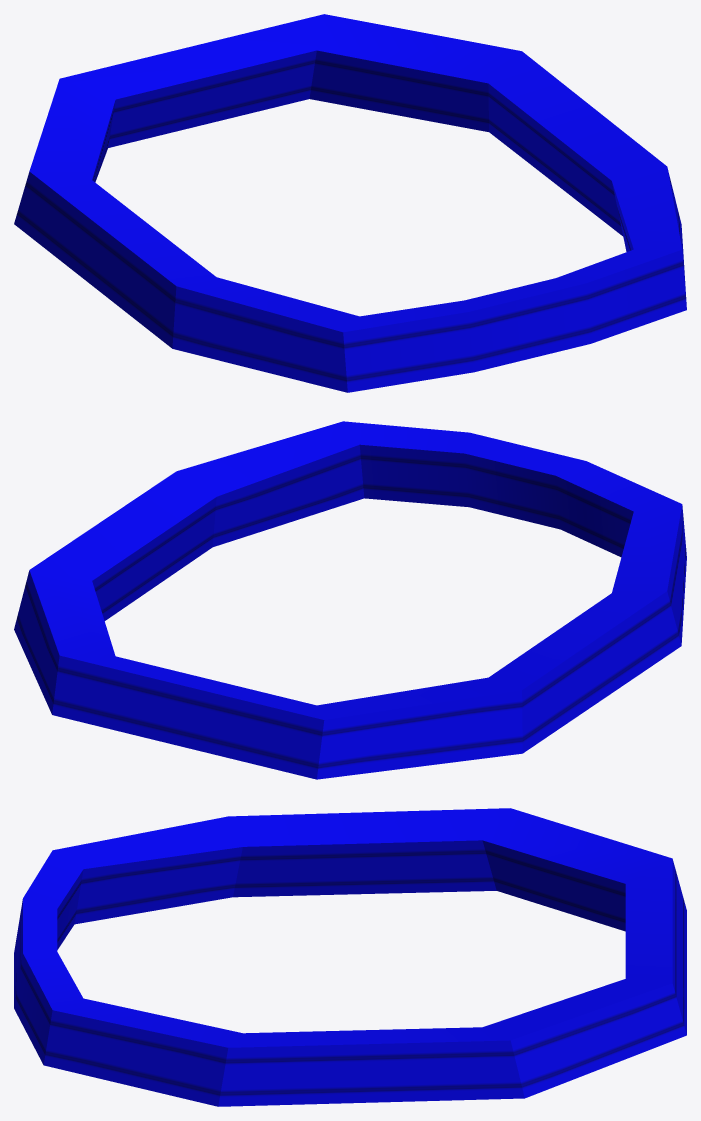
Rendered from CopperCirclet_F.fbx.
3 renders of one model, top to bottom at view 1: azimuth 30°, elevation 25°; view 2: azimuth 150°, elevation 25°; view 3: azimuth 270°, elevation 25°, orthographic. The views are drawn at different scales.
Visible parts, largest first — view 1: CopperCirclet_F; view 2: CopperCirclet_F; view 3: CopperCirclet_F.
Boxes of the visible parts, bbox=[...] form: CopperCirclet_F: bbox=[14, 14, 686, 392]; CopperCirclet_F: bbox=[14, 421, 686, 779]; CopperCirclet_F: bbox=[14, 808, 686, 1106].
Size of the model in its own units: 21.76 by 3.12 by 25.78.
